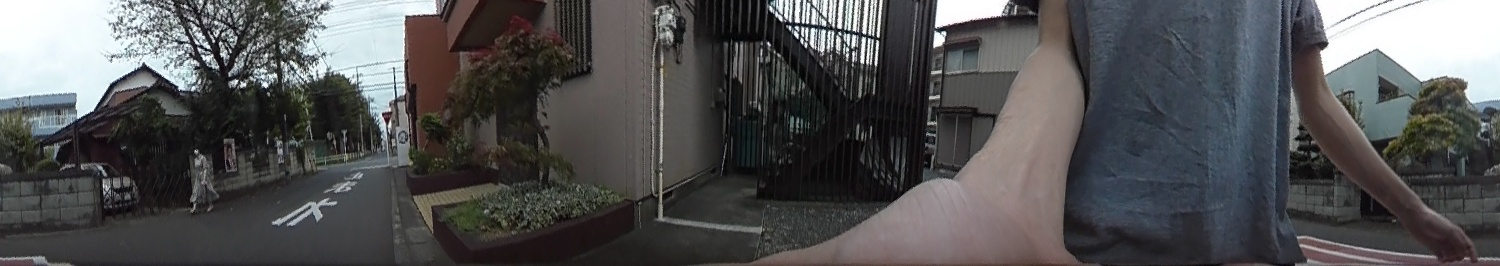person: (187, 142, 219, 216)
